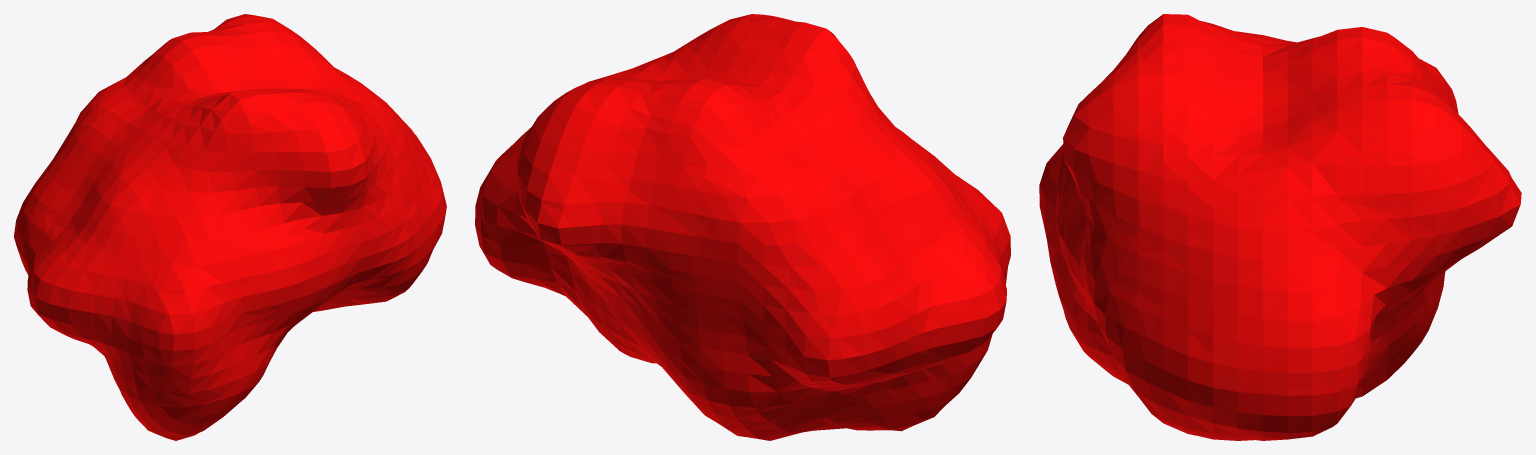
The model's file is yhbY_coarse.dae.
3 views of the same model, side by side, from view 1: azimuth 30°, elevation 25°; view 2: azimuth 150°, elevation 25°; view 3: azimuth 270°, elevation 25° (orthographic). The views are drawn at different scales.
Parts seen in each view (by area): view 1: yhbY; view 2: yhbY; view 3: yhbY.
Part boxes in pixels (x1,y1,x2,y2): yhbY: (14, 14, 446, 440); yhbY: (475, 14, 1010, 440); yhbY: (1039, 14, 1521, 440).
Bounding box in the file's own units: 44.62 × 32.99 × 34.33.
